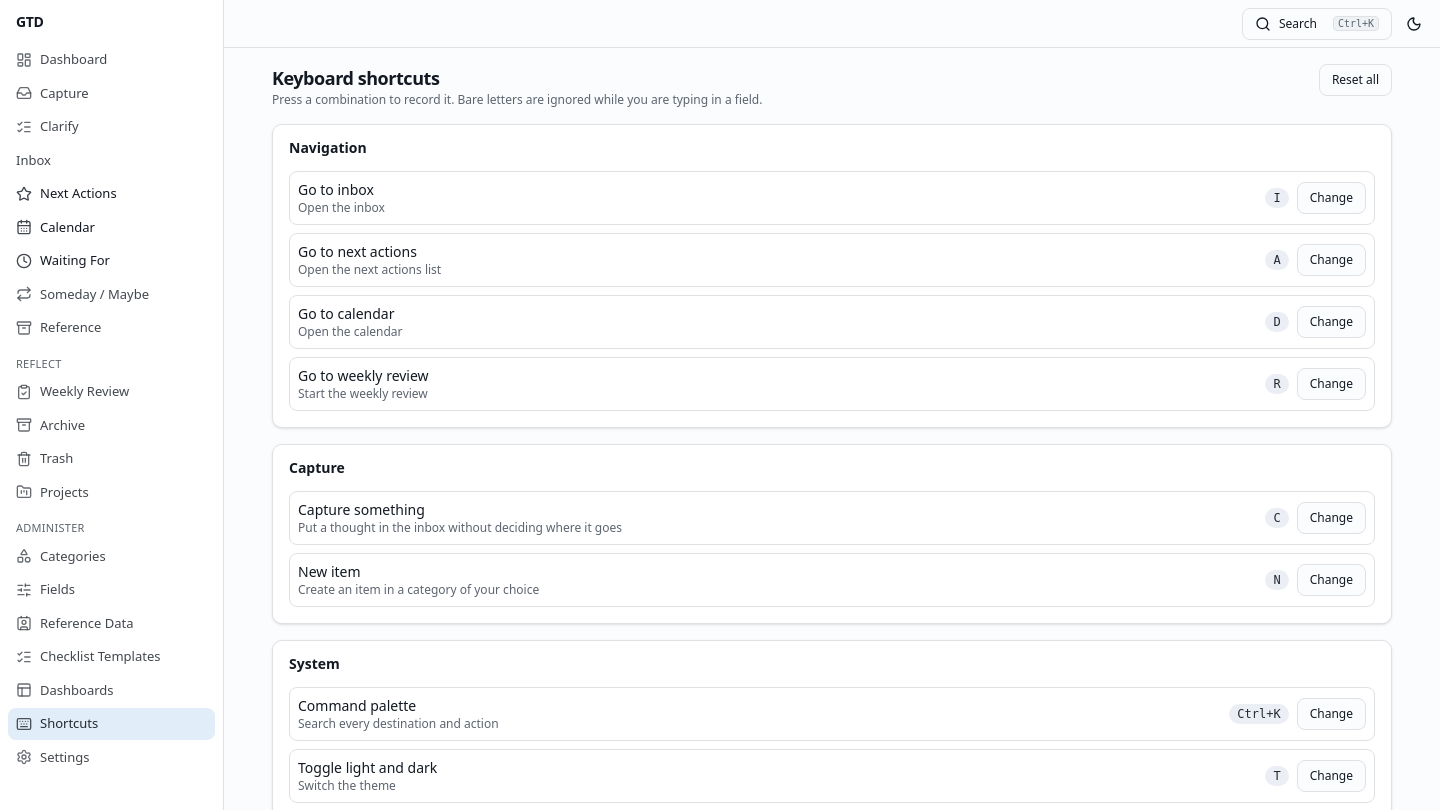
it: the shortcut settings screen › records a pressed combination rather than a typed one
Click the button "Change" in the row of "Open the inbox" at (1331, 198), box [1297,182,1366,214]
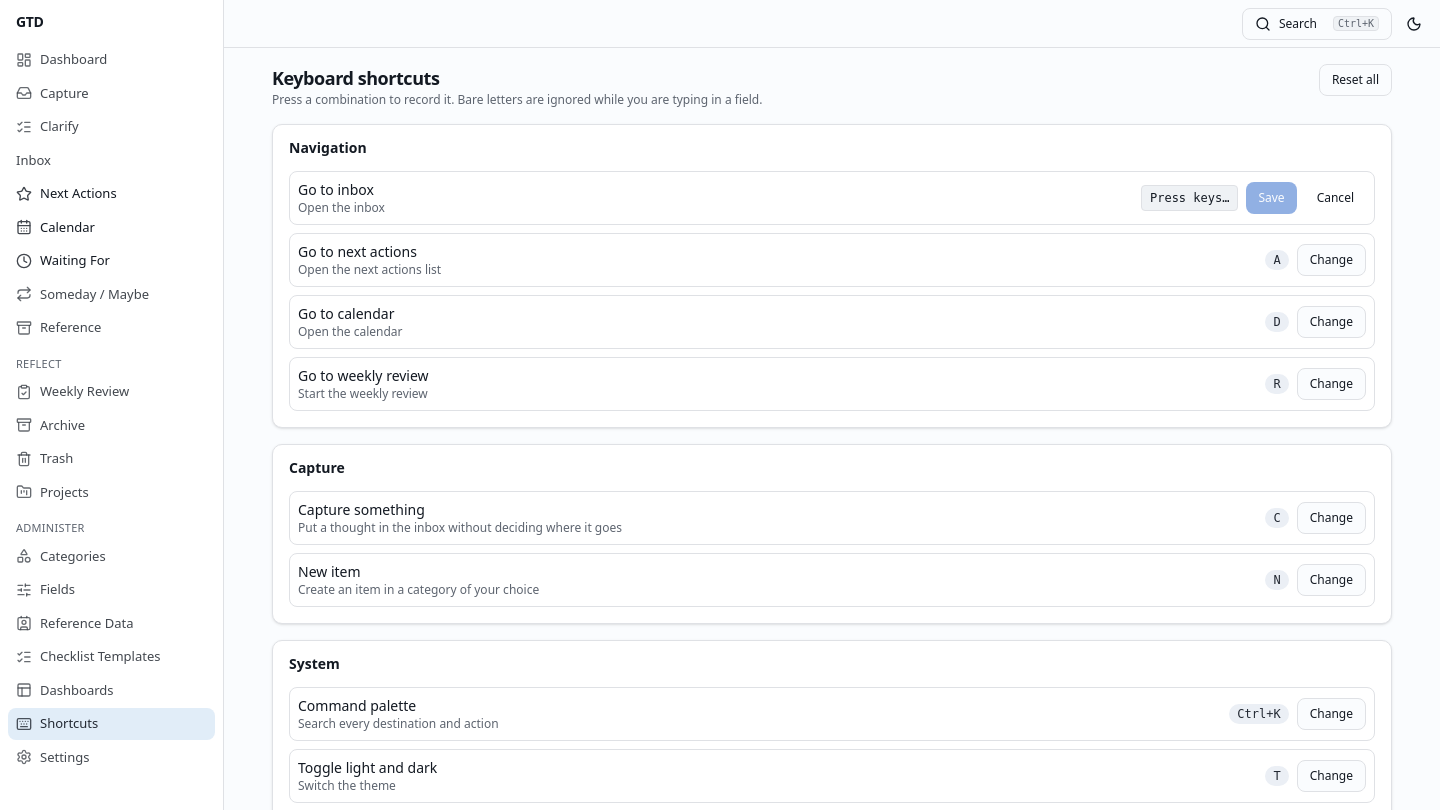
Expected: the text "Press keys…" is shown, [1141,185,1238,211]
Type keys "{Control>}j{/Control}"
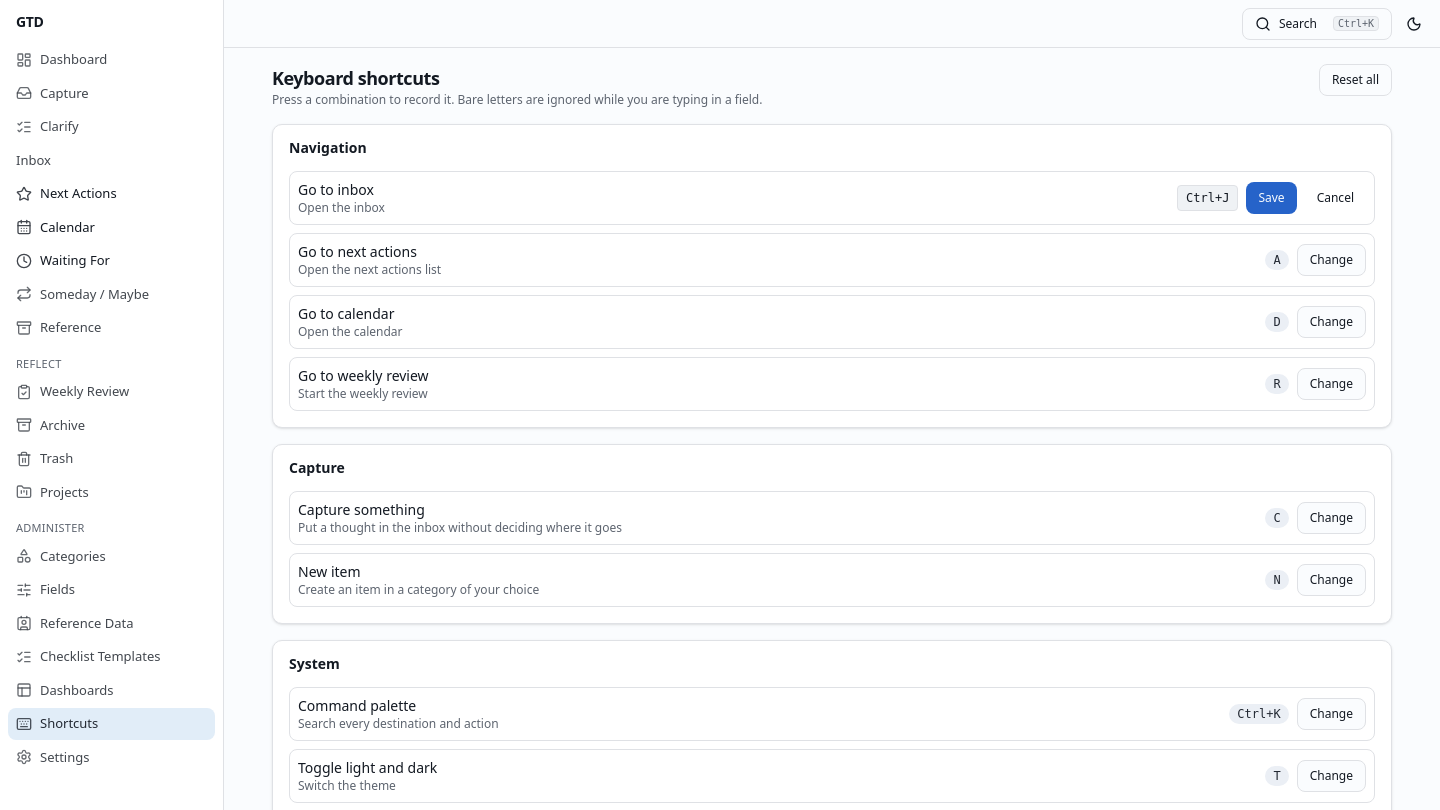
Expected: the text "Ctrl+J" is shown, [1177,185,1238,211]
